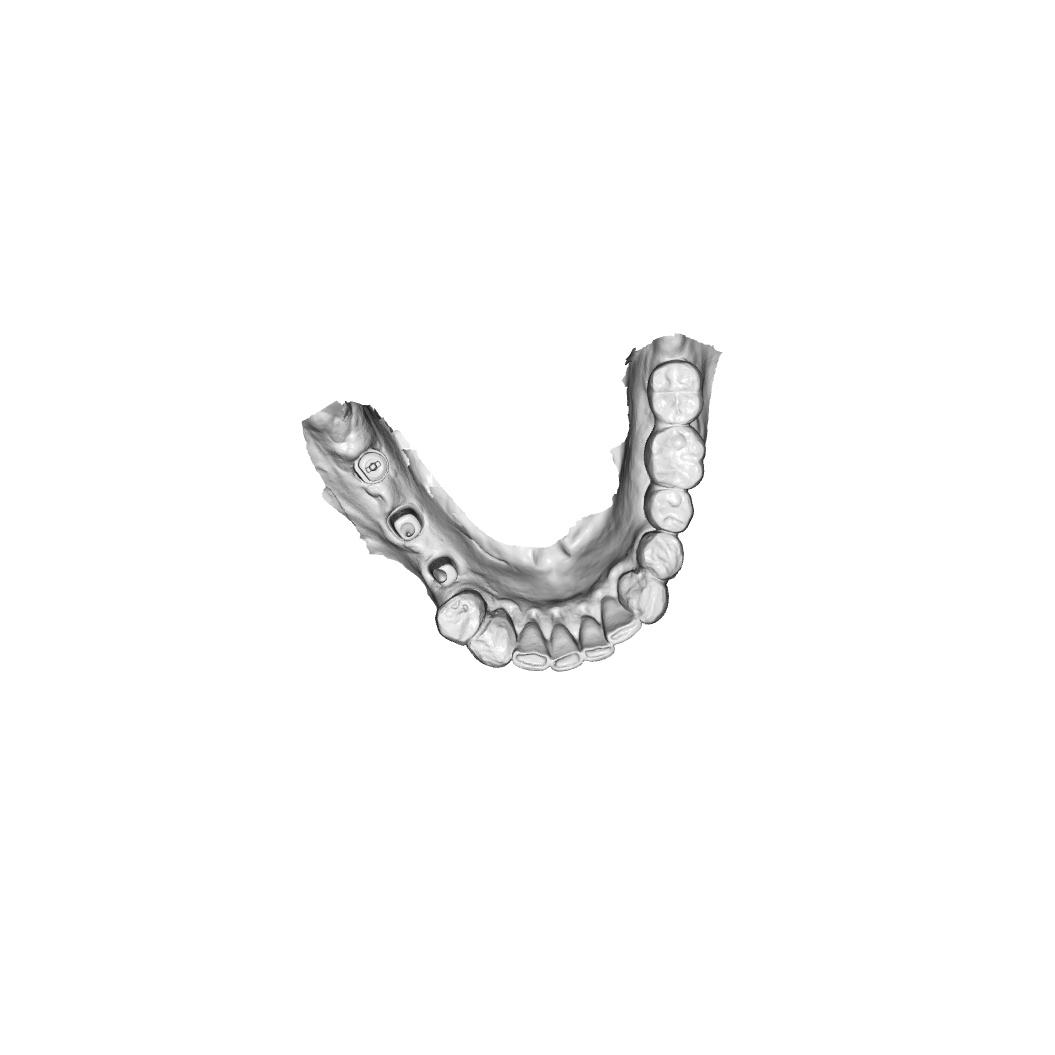abutment: (385, 501, 425, 543), (427, 554, 459, 587)
canine: (465, 607, 518, 669), (617, 567, 671, 626)
implant_minus: (353, 447, 390, 485)
incisor: (600, 595, 642, 645), (512, 619, 550, 672), (577, 615, 616, 663), (550, 621, 584, 674)
molar: (643, 424, 707, 492), (645, 359, 705, 425)
premolar: (435, 588, 488, 647), (635, 529, 685, 581), (643, 485, 696, 533)
